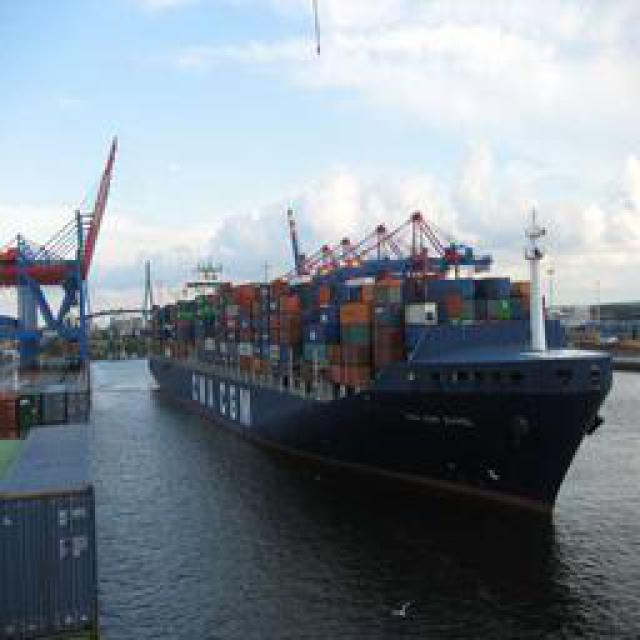Ship: (156, 199, 609, 529)
